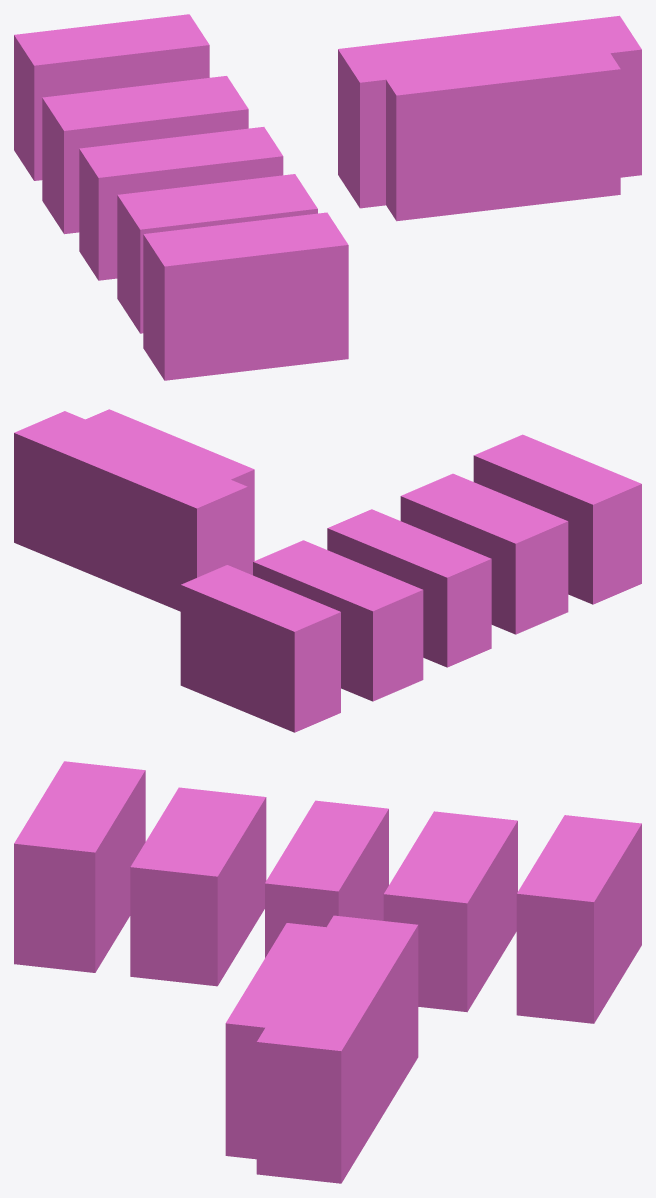
File: bld_18_7.fbx
3 views of the same model, one above another, from view 1: azimuth 30°, elevation 25°; view 2: azimuth 150°, elevation 25°; view 3: azimuth 270°, elevation 25° (orthographic). The views are drawn at different scales.
Parts seen in each view (by area): view 1: bld_18_7_COL; view 2: bld_18_7_COL; view 3: bld_18_7_COL.
Part boxes in pixels (<box>): bld_18_7_COL: <box>14,14,641,380</box>; bld_18_7_COL: <box>14,409,641,732</box>; bld_18_7_COL: <box>14,761,641,1183</box>.
Size of what is drawn, in the model's own units: 179 by 36.7 by 158.
